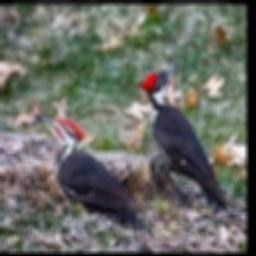Woodpecker: (139, 62, 235, 216), (34, 112, 150, 219)
